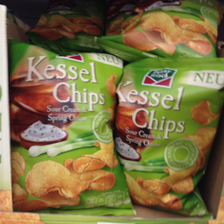chips: (8, 43, 126, 214), (113, 56, 224, 217)
